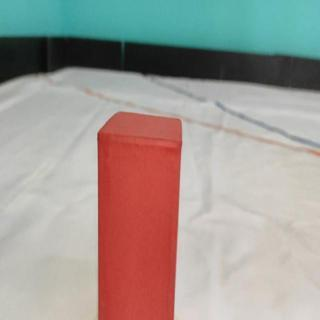redbox: (97, 111, 181, 320)
